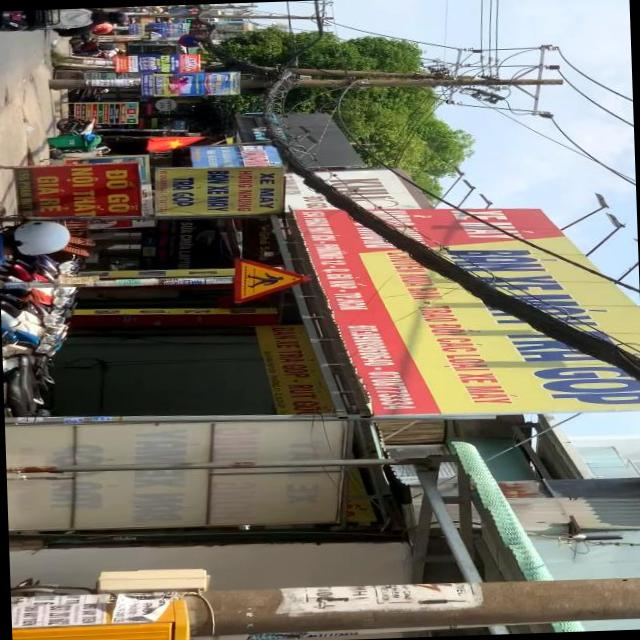W-224: (229, 255, 311, 303)
